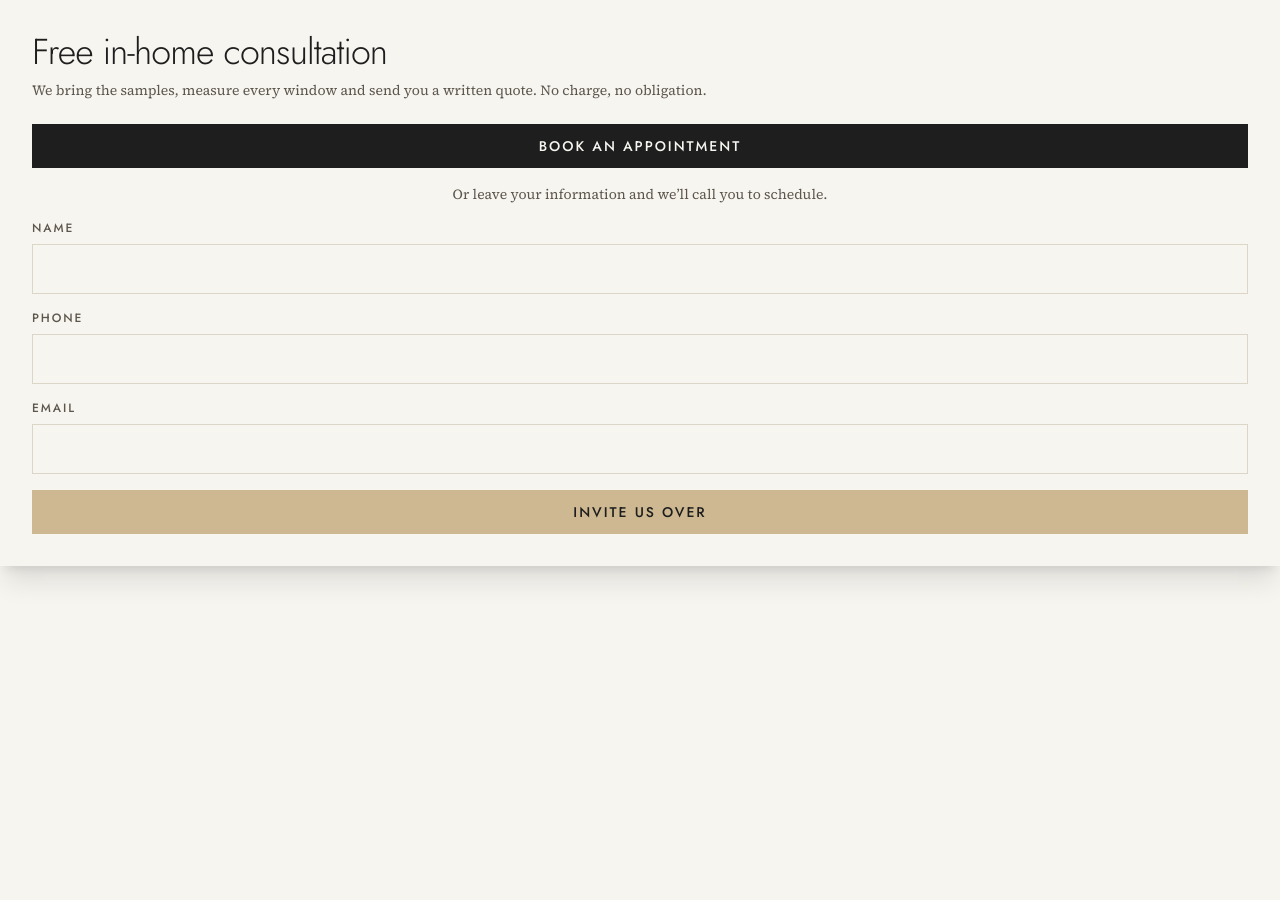
Scenario: Pick a time on the home form › forgets the time on a new day, so a time from another day is never booked by mistake
Step 1. Click the button "Book an Appointment" → (640, 146), box top-left (32, 124), bottom-right (1248, 168)
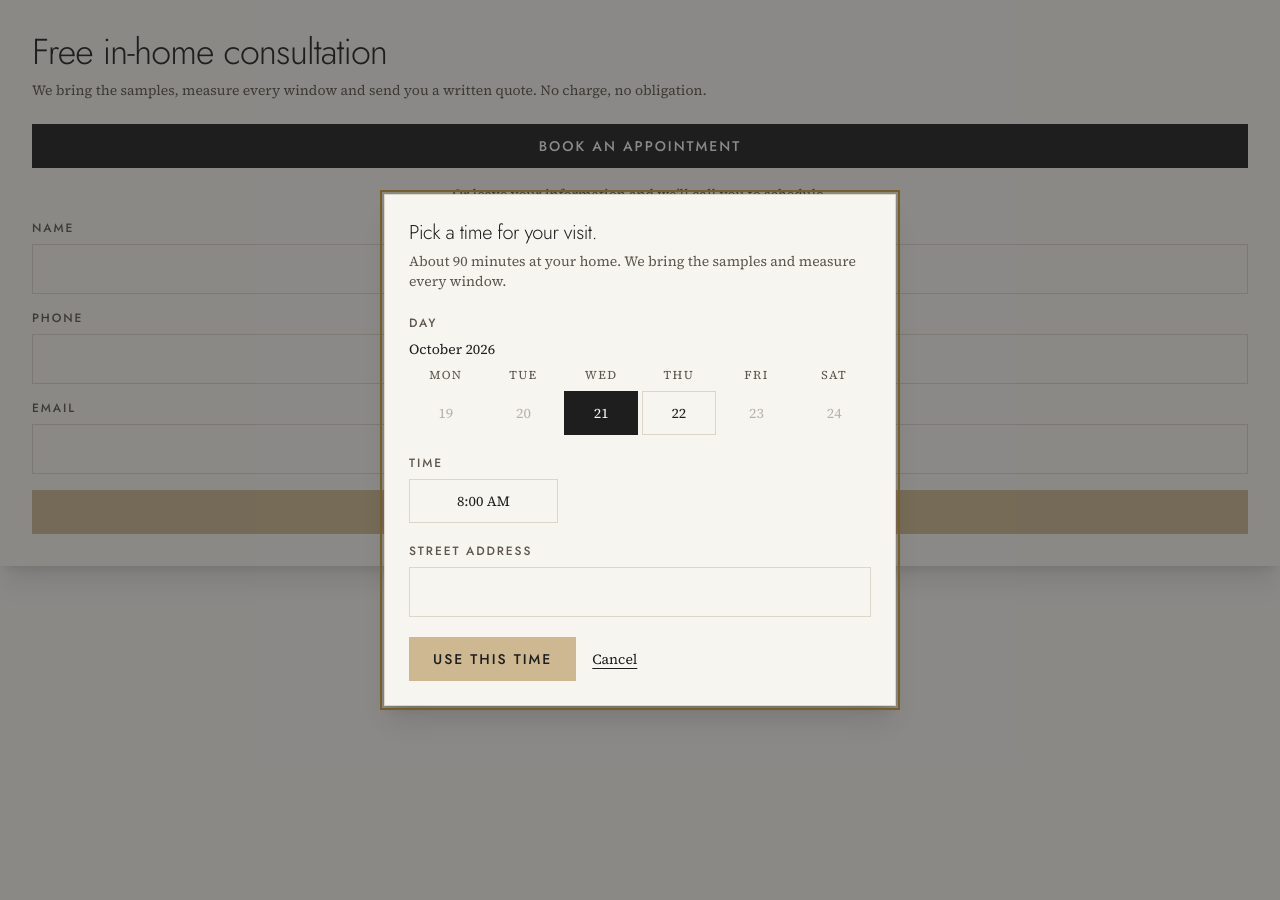
Step 2. Click the button "8:00 AM" → (483, 501), box top-left (409, 479), bottom-right (558, 523)
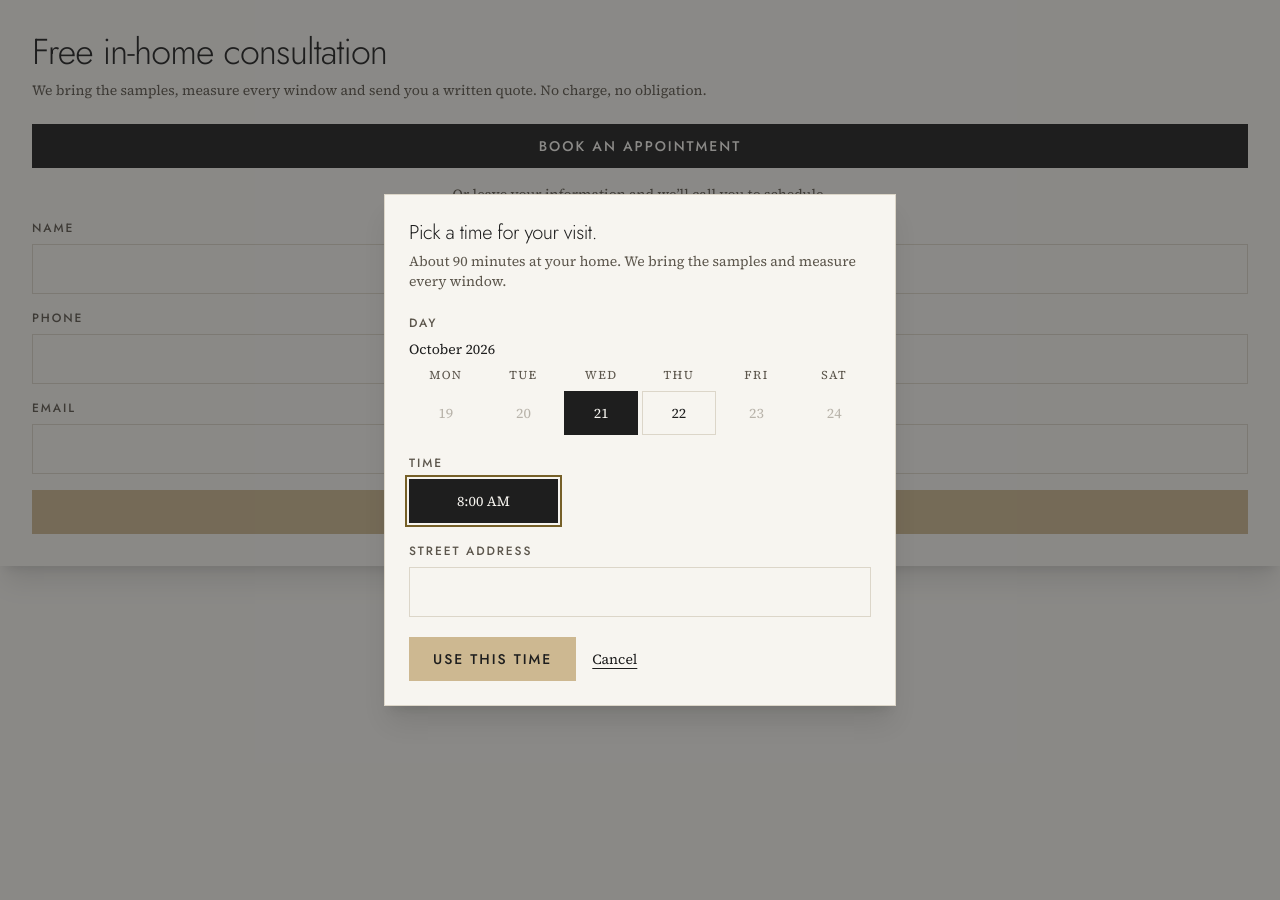
Step 3. Click the button named "Thursday, October 22" → (679, 413), box top-left (642, 391), bottom-right (716, 435)
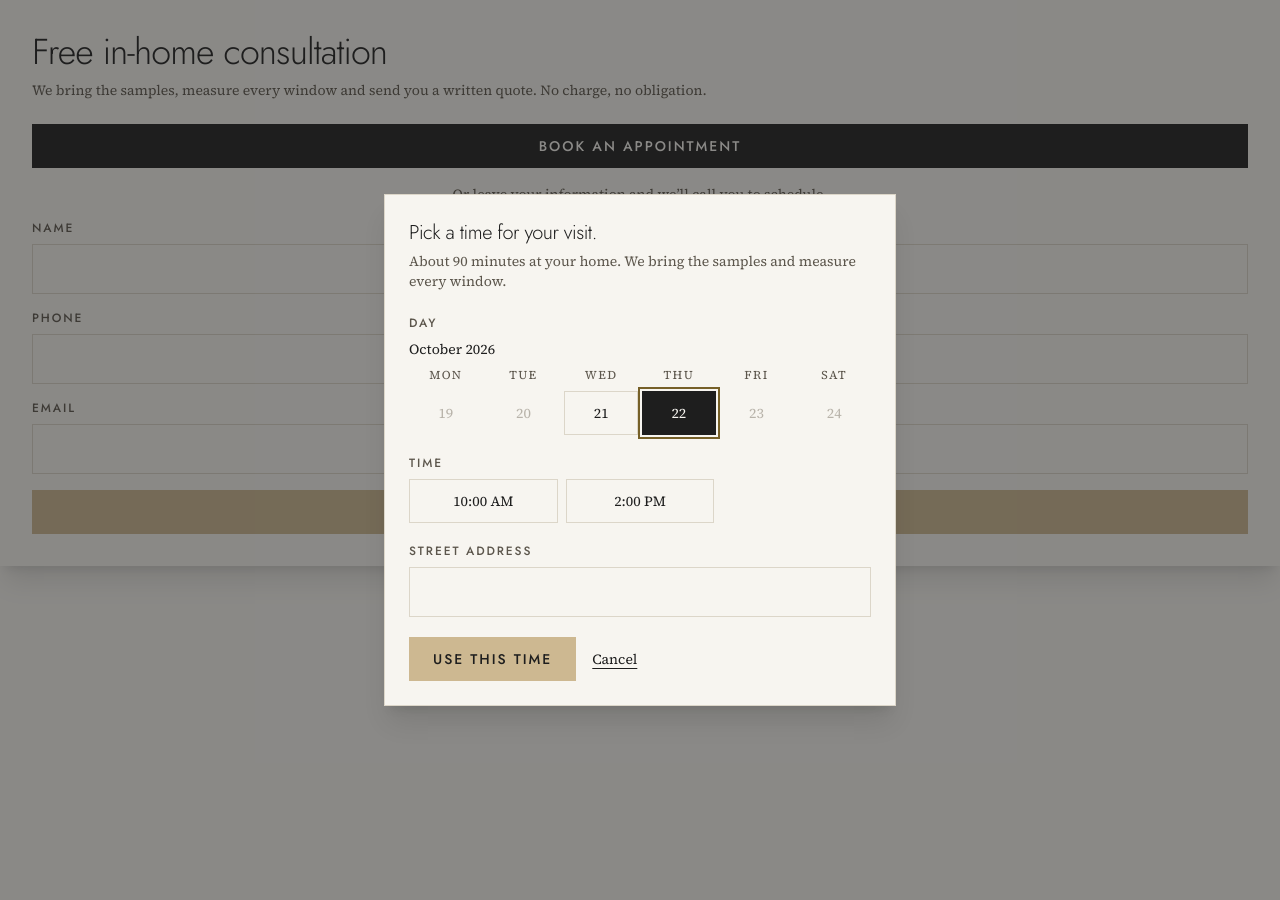
Step 4. Type "12 Sample St" into the field labelled "Street address" → (640, 592), box top-left (409, 567), bottom-right (871, 617)
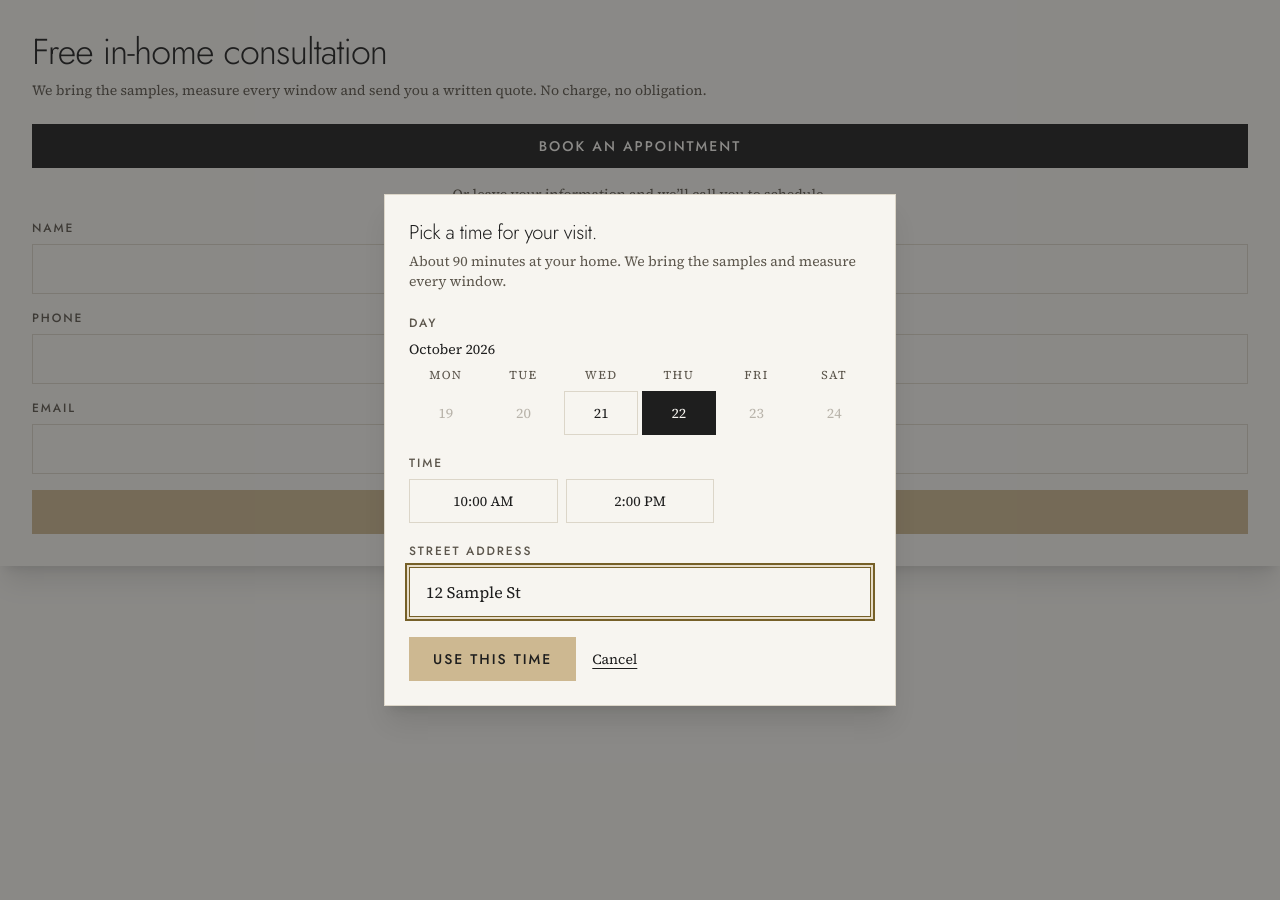
Step 5. Click the button "Use this time" → (493, 659), box top-left (409, 637), bottom-right (576, 681)
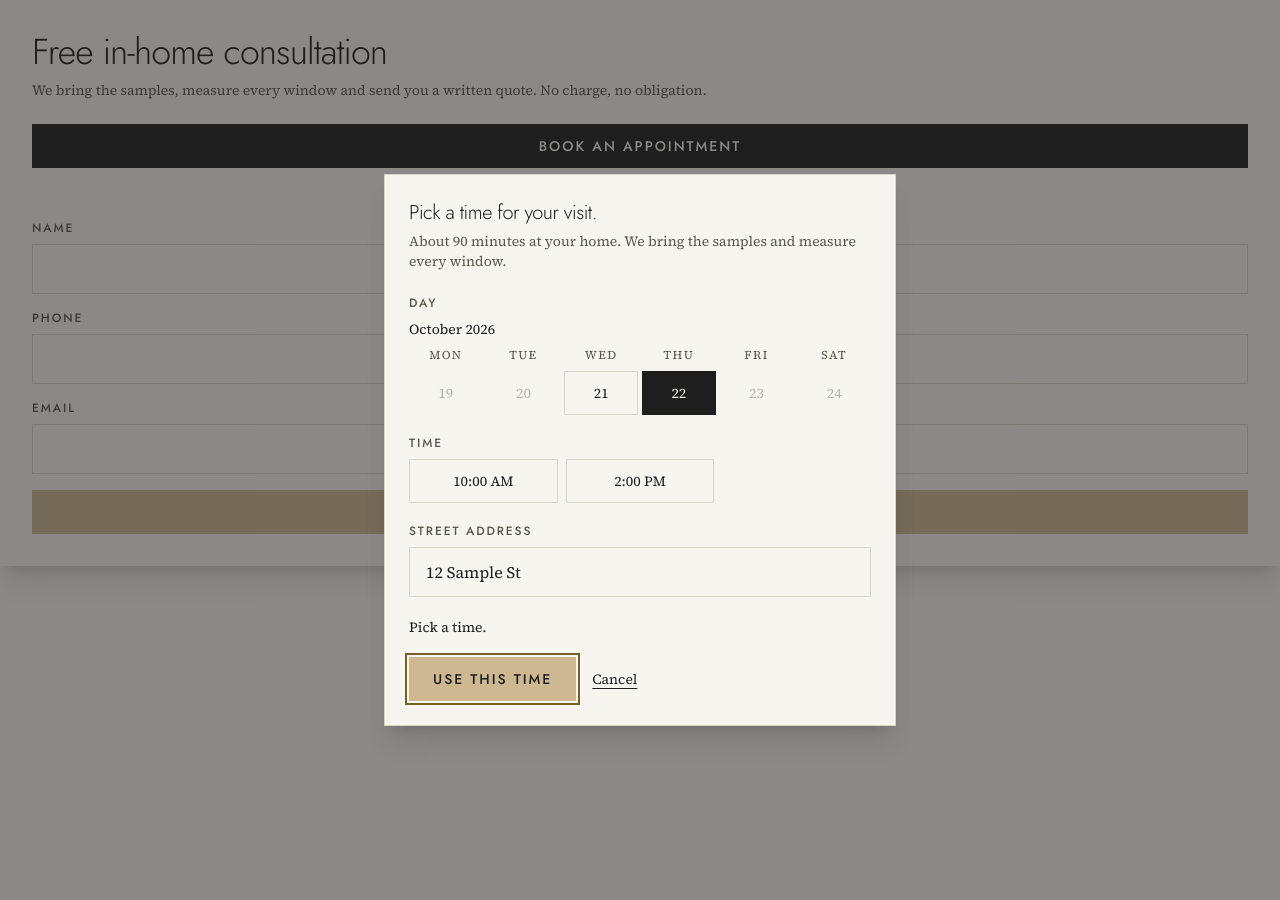
Now the message reads "Pick a time.", box top-left (409, 617), bottom-right (486, 637)
